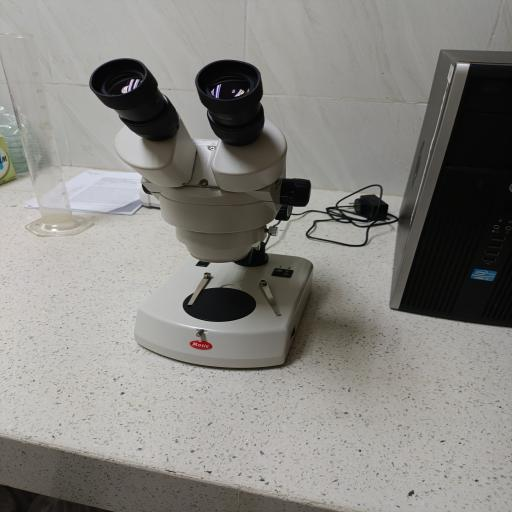Microscopio_estereo: (54, 52, 371, 378)
